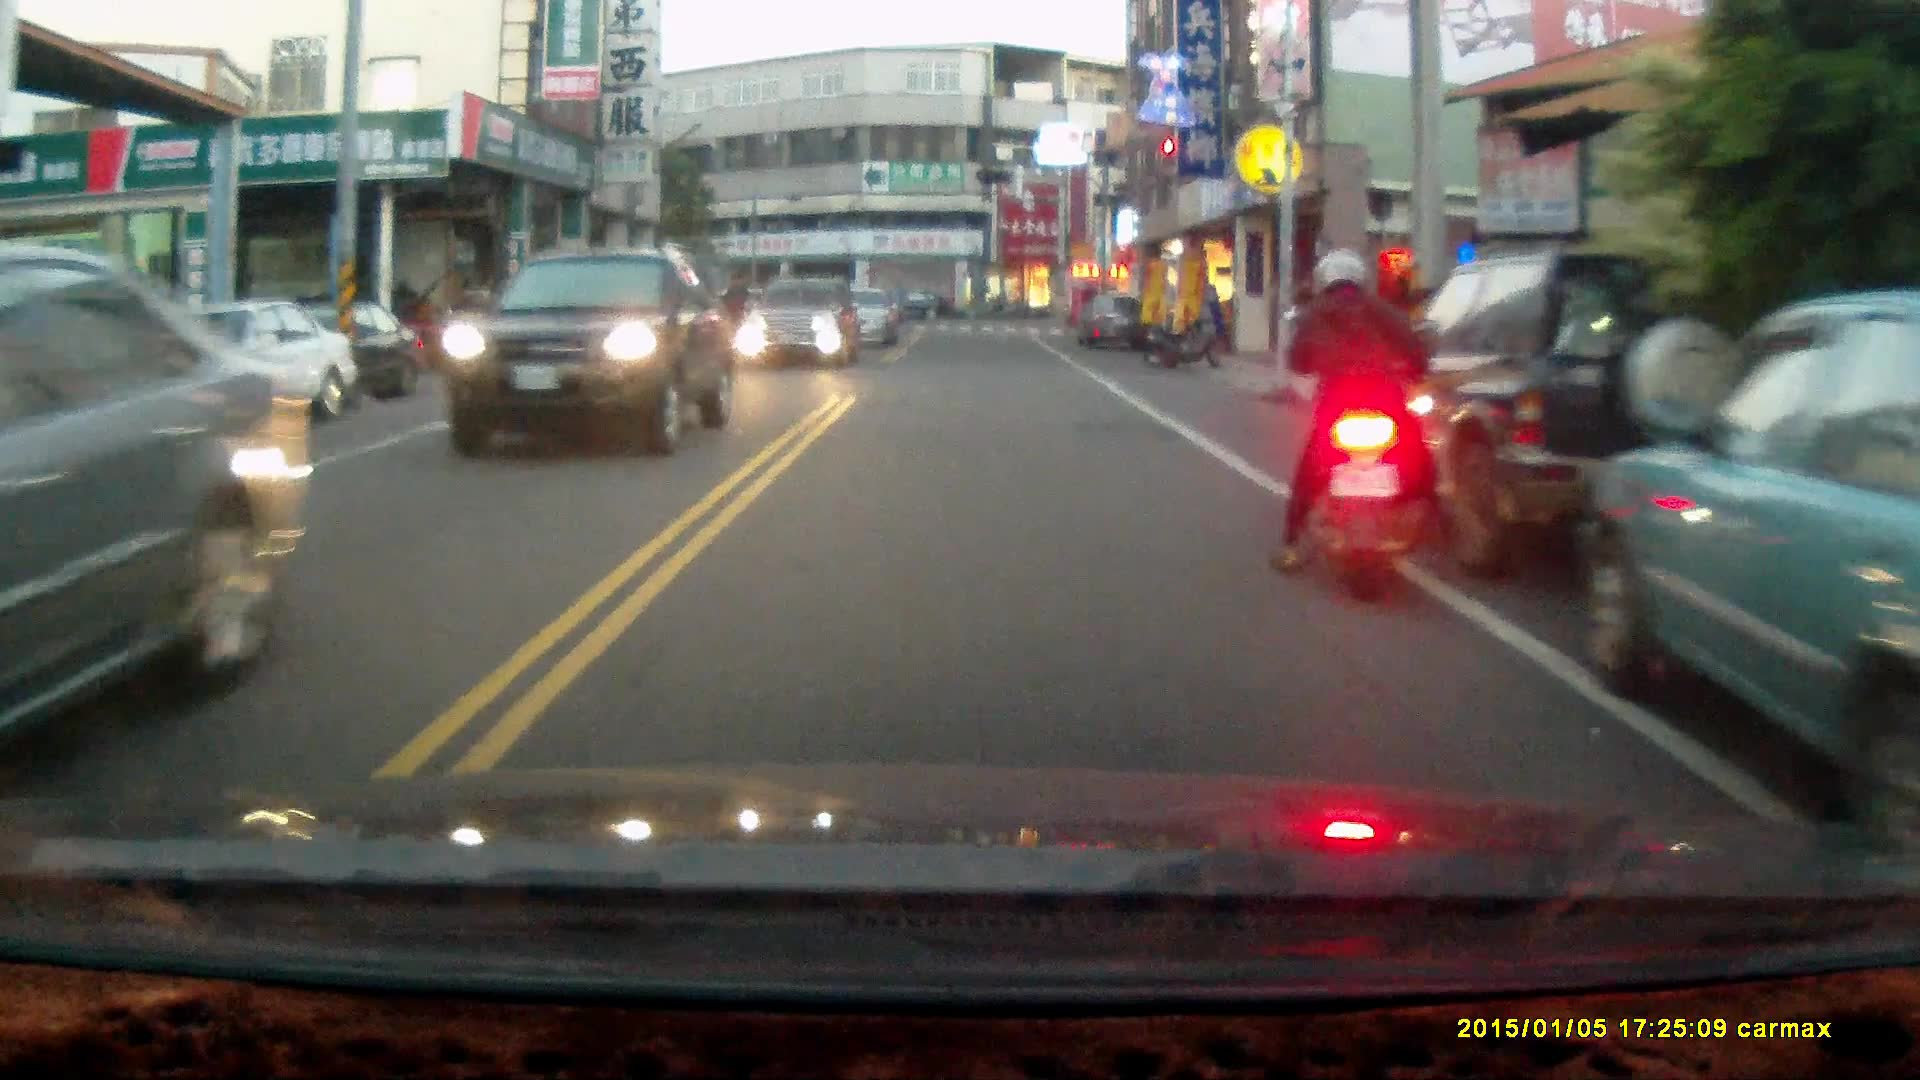rider: (1271, 244, 1455, 600)
vehicle: (1566, 290, 1920, 843), (1341, 249, 1815, 591), (1, 239, 307, 751), (442, 249, 731, 459), (103, 299, 360, 442), (733, 282, 870, 374), (1075, 291, 1151, 352)
